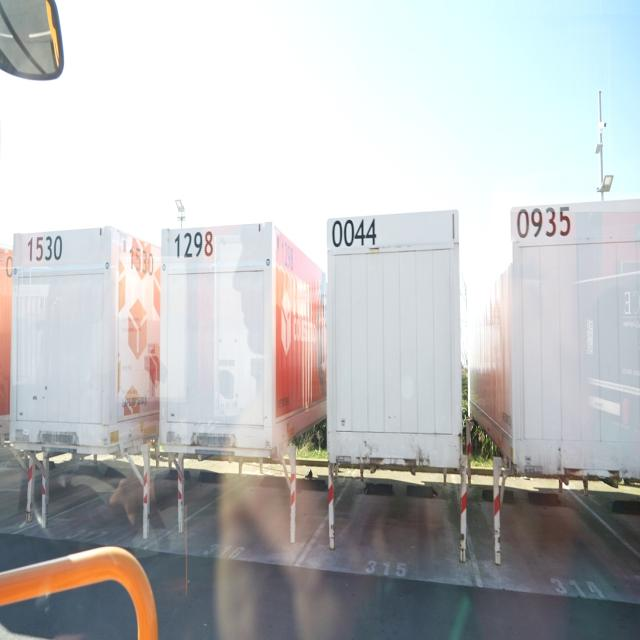Code: (512, 203, 574, 244), (329, 212, 380, 256), (172, 230, 215, 263), (24, 230, 62, 264), (126, 241, 156, 278)
